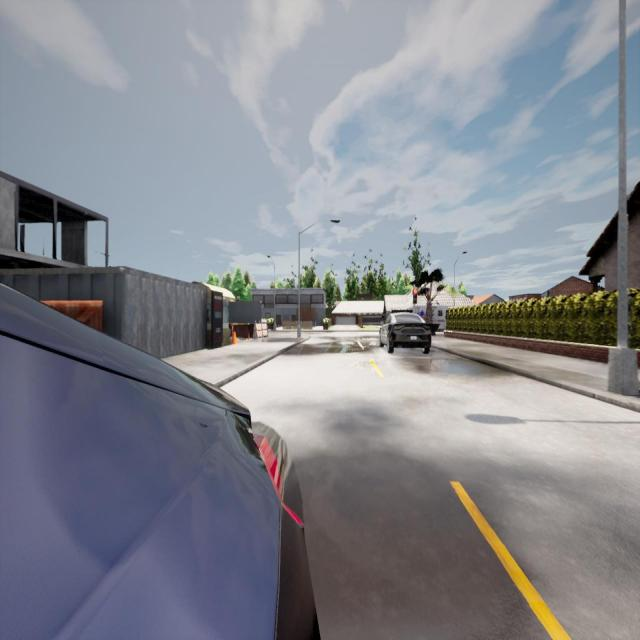Vehicle: (0, 285, 316, 638), (379, 312, 431, 353), (410, 306, 446, 330)
traffic_light: (413, 288, 417, 304)
